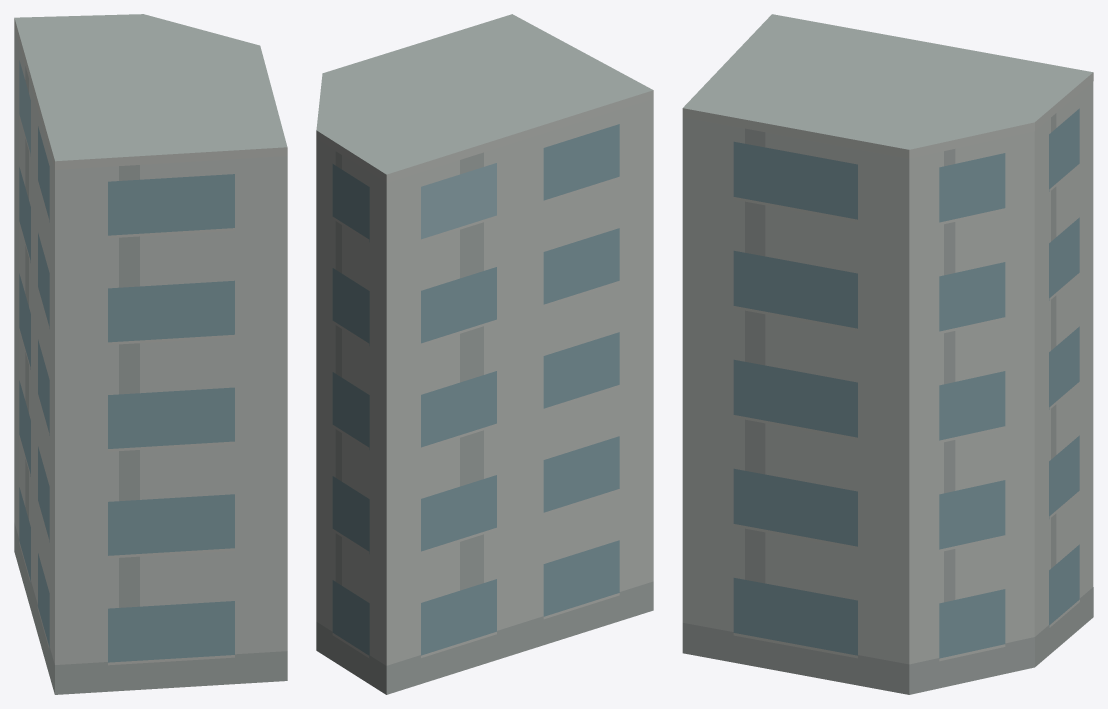
File: survey-upis-32974660.glb
3 renders of one model, left to right at view 1: azimuth 30°, elevation 25°; view 2: azimuth 150°, elevation 25°; view 3: azimuth 270°, elevation 25°, orthographic. The views are drawn at different scales.
Parts seen in each view (by area): view 1: survey-upis-32974660.tmp; view 2: survey-upis-32974660.tmp; view 3: survey-upis-32974660.tmp.
Boxes of the visible parts, box(x1,y1,x2,y2) form: survey-upis-32974660.tmp: box(14, 14, 287, 694); survey-upis-32974660.tmp: box(316, 14, 653, 694); survey-upis-32974660.tmp: box(682, 14, 1093, 694).
Size of the model in its own units: 7.92 by 14.8 by 10.12.
